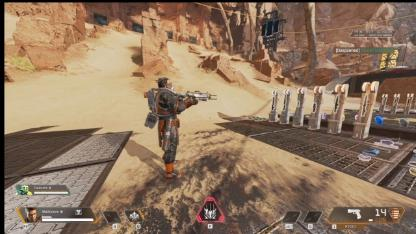Target: (150, 75, 184, 178)
